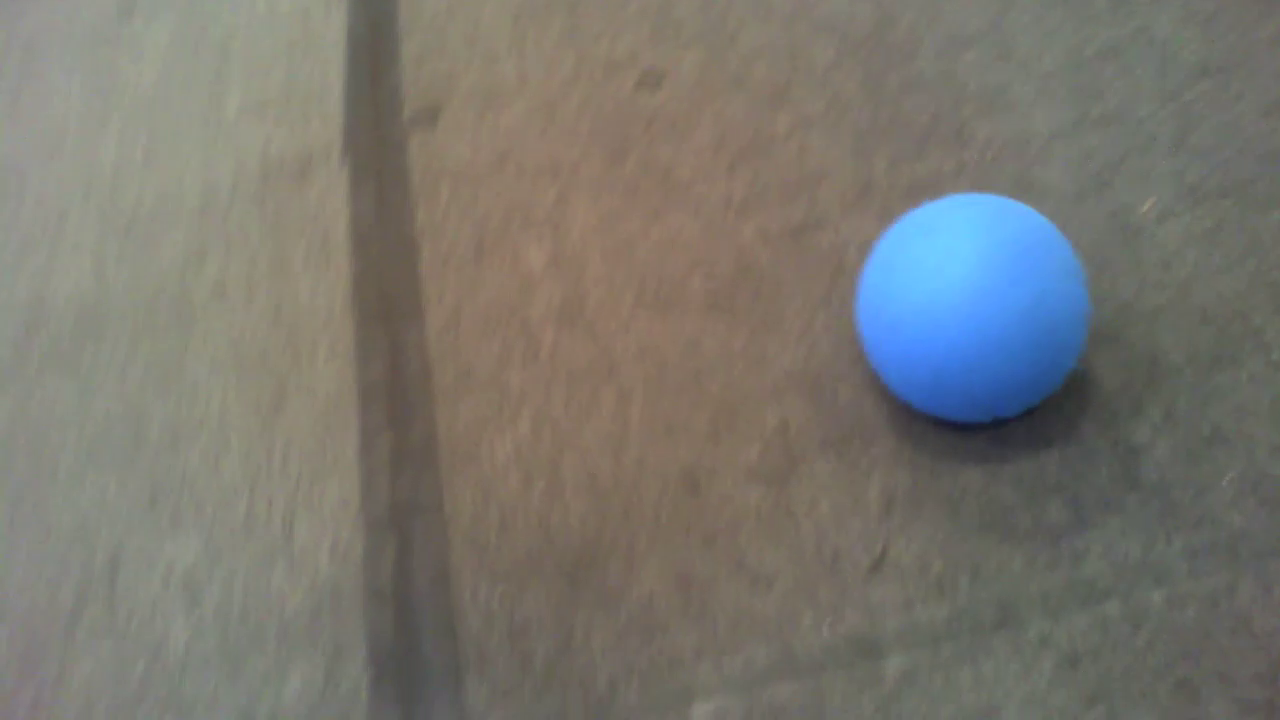blue_cargo: (846, 179, 1098, 437)
